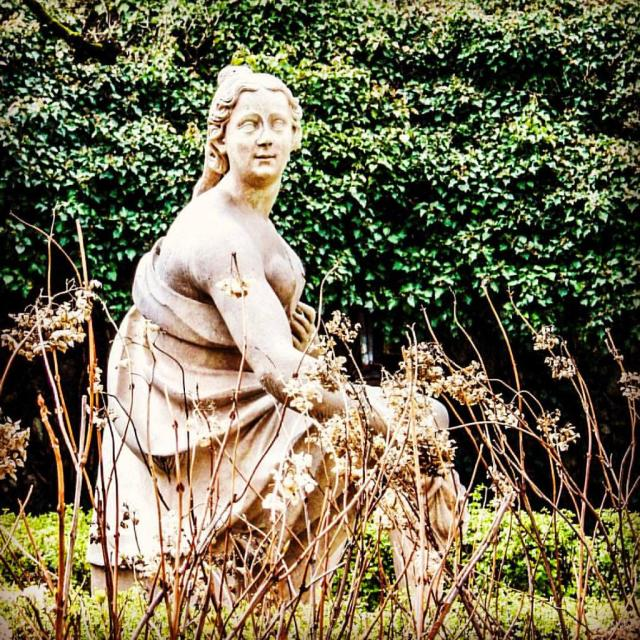cats: (86, 63, 466, 629)
